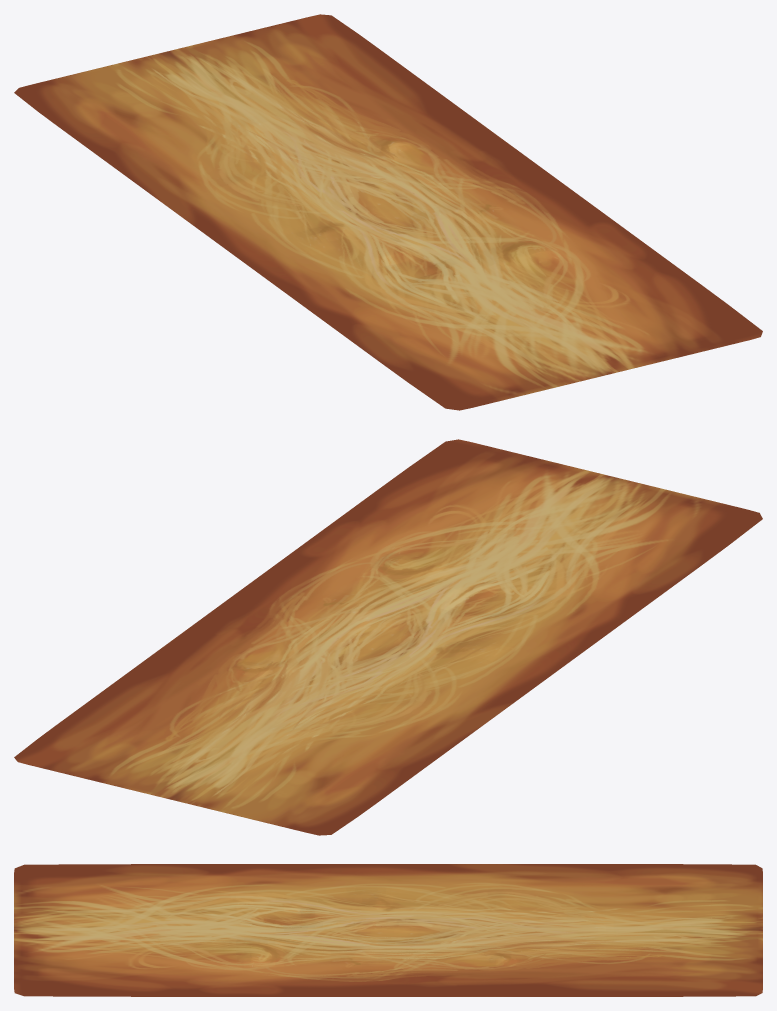
File: Terrein 1.fbx
3 renders of one model, top to bottom at view 1: azimuth 30°, elevation 25°; view 2: azimuth 150°, elevation 25°; view 3: azimuth 270°, elevation 25°, orthographic. The views are drawn at different scales.
Visible parts, largest first — view 1: Grid; view 2: Grid; view 3: Grid.
Part boxes in pixels (x1,y1,x2,y2): Grid: [14, 14, 762, 410]; Grid: [14, 439, 762, 835]; Grid: [14, 864, 762, 996].
Bounding box in the file's own units: 1944 × 30.79 × 4638.
